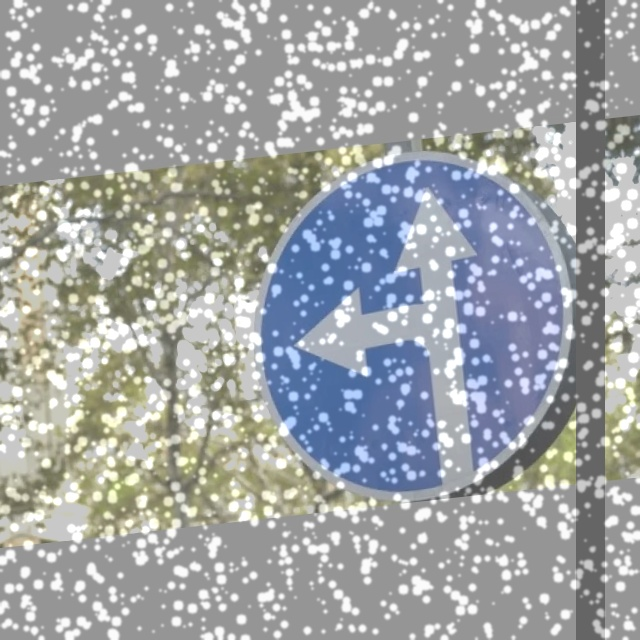Compulsory_Ahead_or_Turn_Left: (236, 136, 611, 507)
